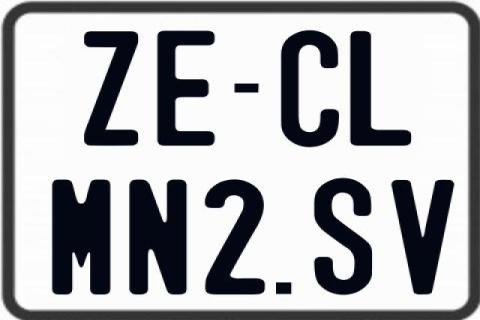0: (204, 180, 270, 296)
C: (279, 30, 343, 152)
E: (157, 28, 219, 147)
L: (347, 29, 412, 145)
M: (51, 178, 110, 294)
N: (129, 179, 192, 297)
S: (311, 177, 373, 299)
V: (392, 180, 460, 297)
Z: (82, 30, 142, 144)
